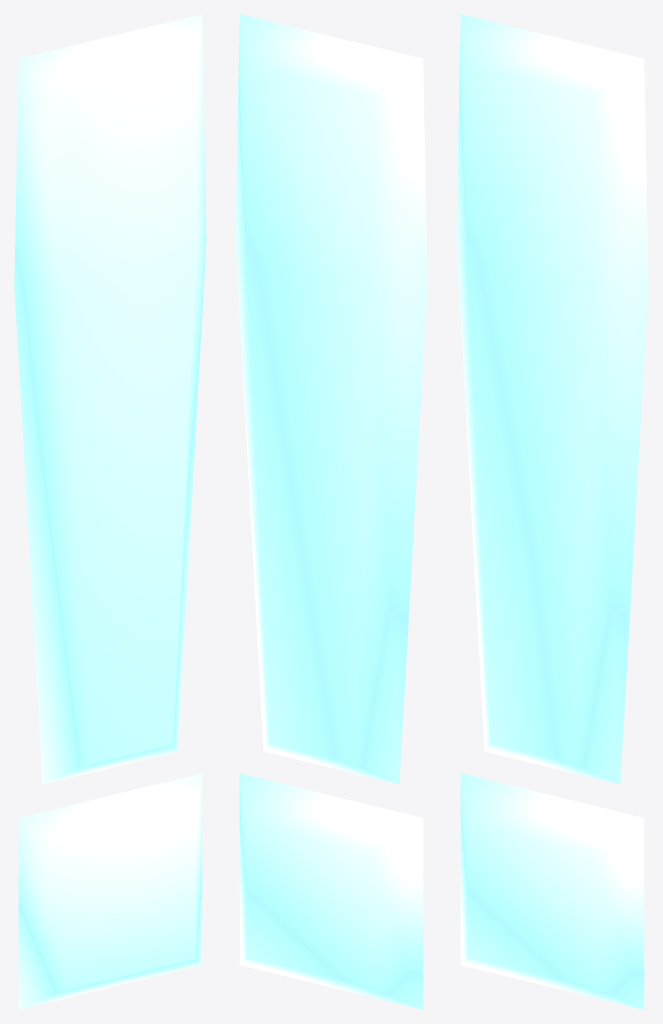
Rendered from obj_mark02.gltf.
The picture shows the model from 3 angles, left to right: view 1: azimuth 30°, elevation 25°; view 2: azimuth 150°, elevation 25°; view 3: azimuth 330°, elevation 25°; orthographic projection.
Parts seen in each view (by area): view 1: obj_mark02; view 2: obj_mark02; view 3: obj_mark02.
Boxes of the visible parts, bbox=[...] form: obj_mark02: bbox=[14, 14, 206, 1009]; obj_mark02: bbox=[235, 14, 427, 1009]; obj_mark02: bbox=[456, 14, 648, 1009].
Bounding box in the file's own units: 0.1294 × 0.6121 × 0.0484.
